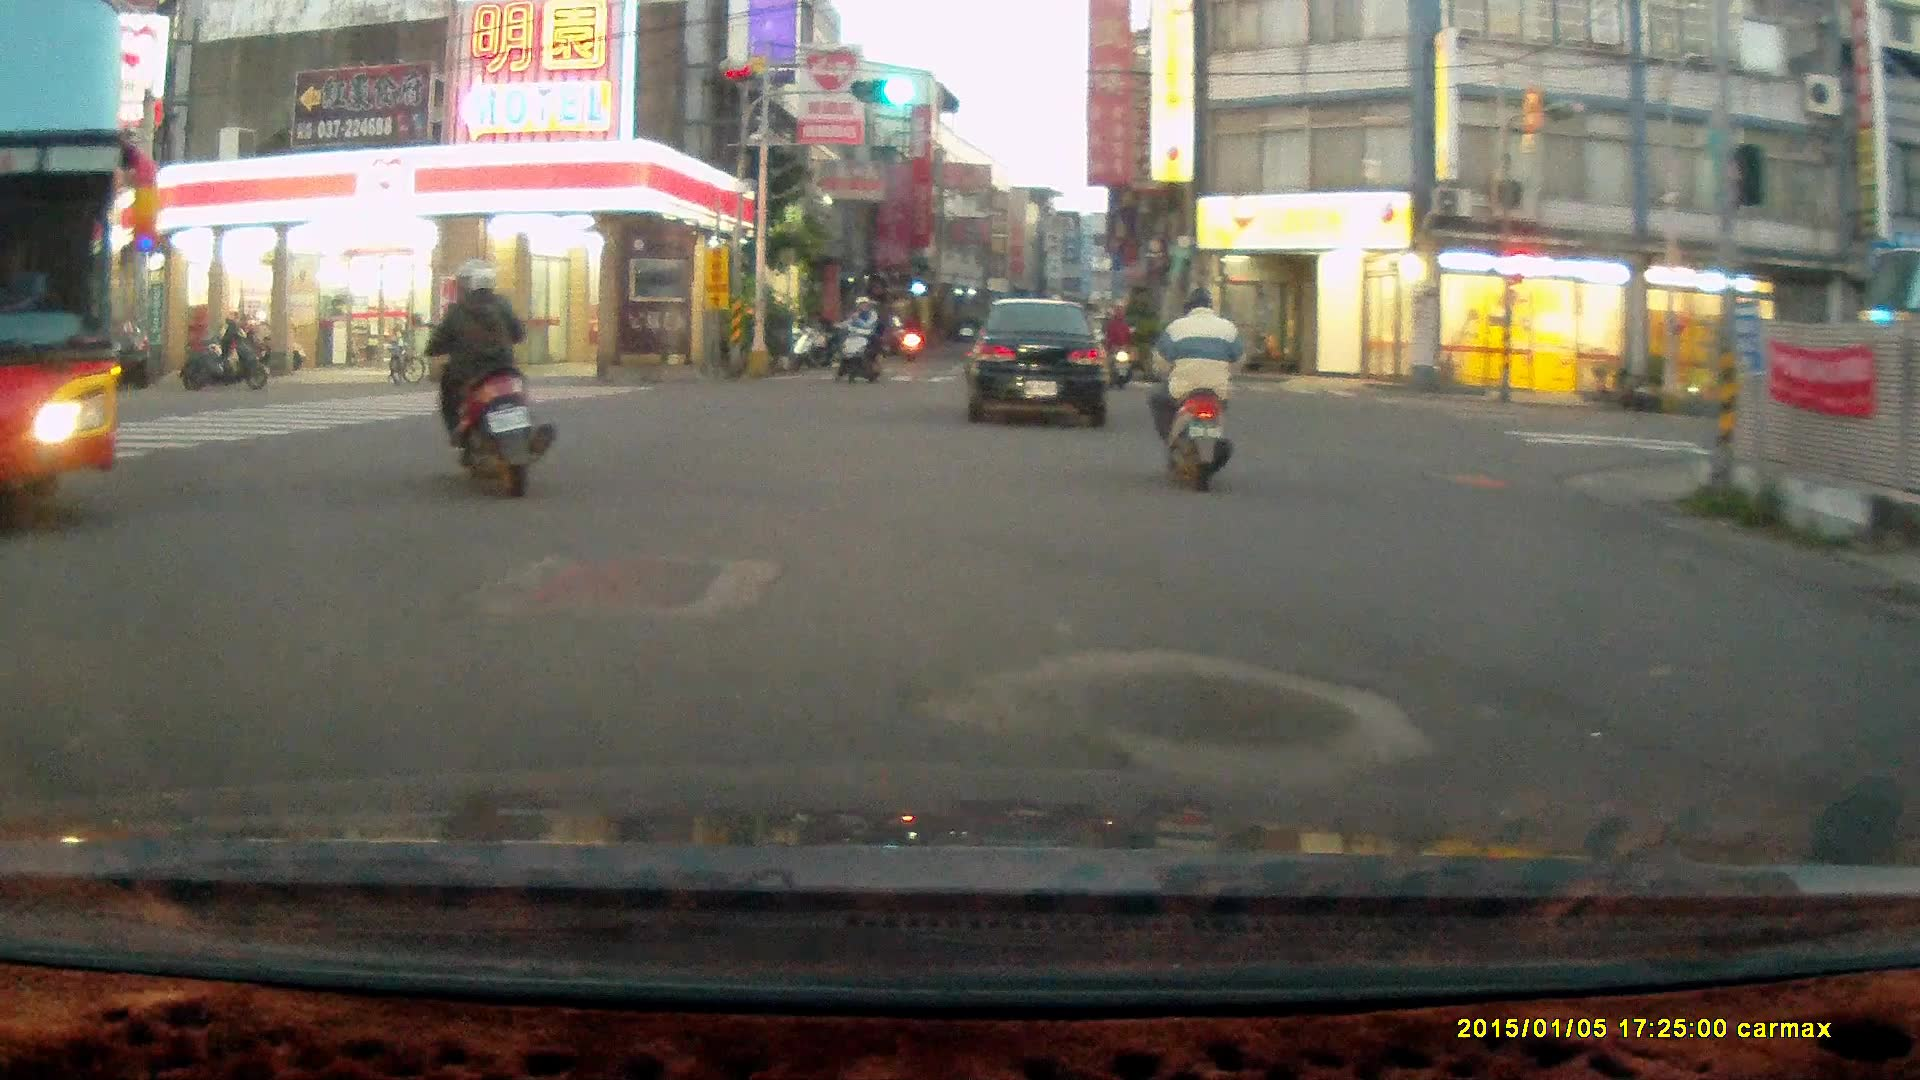rider: (411, 256, 553, 495), (1148, 285, 1239, 492), (833, 292, 889, 386), (1099, 300, 1137, 388)
vehicle: (1, 9, 127, 525), (966, 296, 1112, 430)
